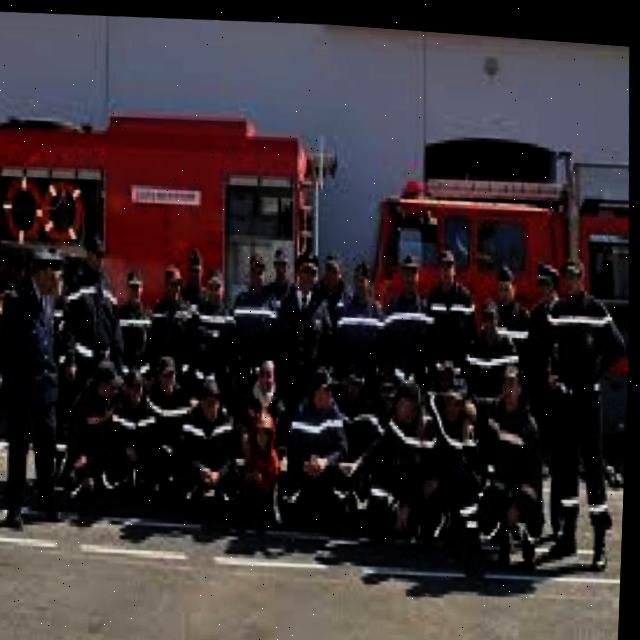emergency: (359, 137, 593, 334)
